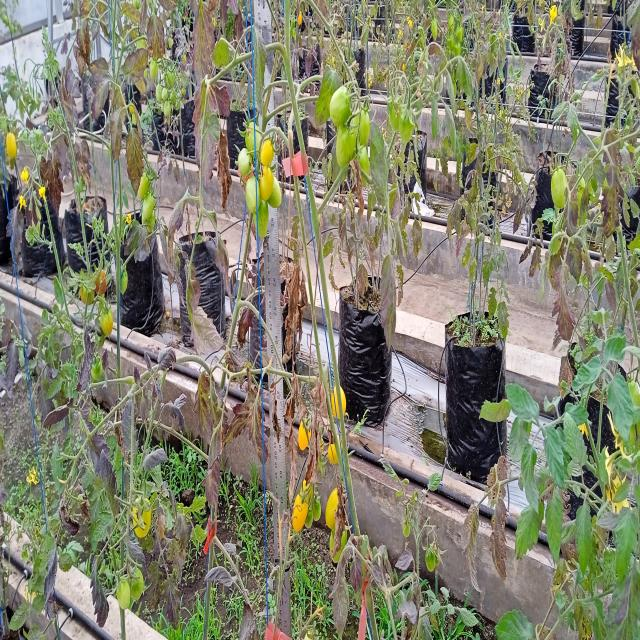fine: (325, 483, 343, 530), (292, 490, 308, 535), (259, 136, 276, 170), (260, 165, 274, 204), (298, 415, 311, 453), (6, 130, 16, 163)
unripe: (334, 123, 355, 174), (132, 491, 153, 541), (328, 82, 352, 125), (551, 167, 569, 214), (128, 566, 145, 602), (246, 118, 262, 156), (398, 108, 414, 146), (245, 176, 260, 216), (115, 576, 131, 613), (235, 146, 251, 179), (137, 169, 150, 201), (424, 544, 437, 575), (143, 190, 156, 219), (401, 514, 412, 543), (150, 56, 158, 84), (163, 99, 171, 121)
